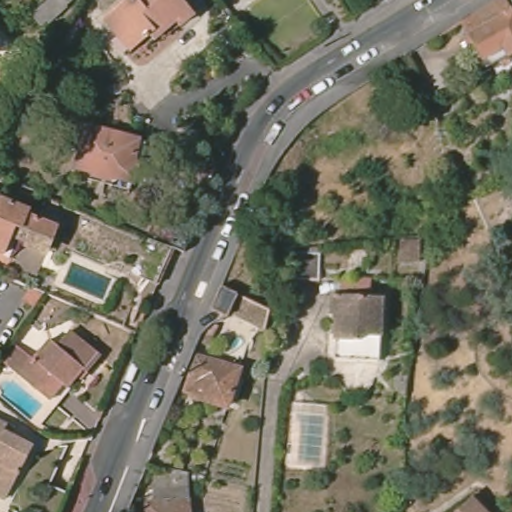pool: (288, 404, 326, 472), (1, 376, 44, 421), (62, 262, 109, 301)
